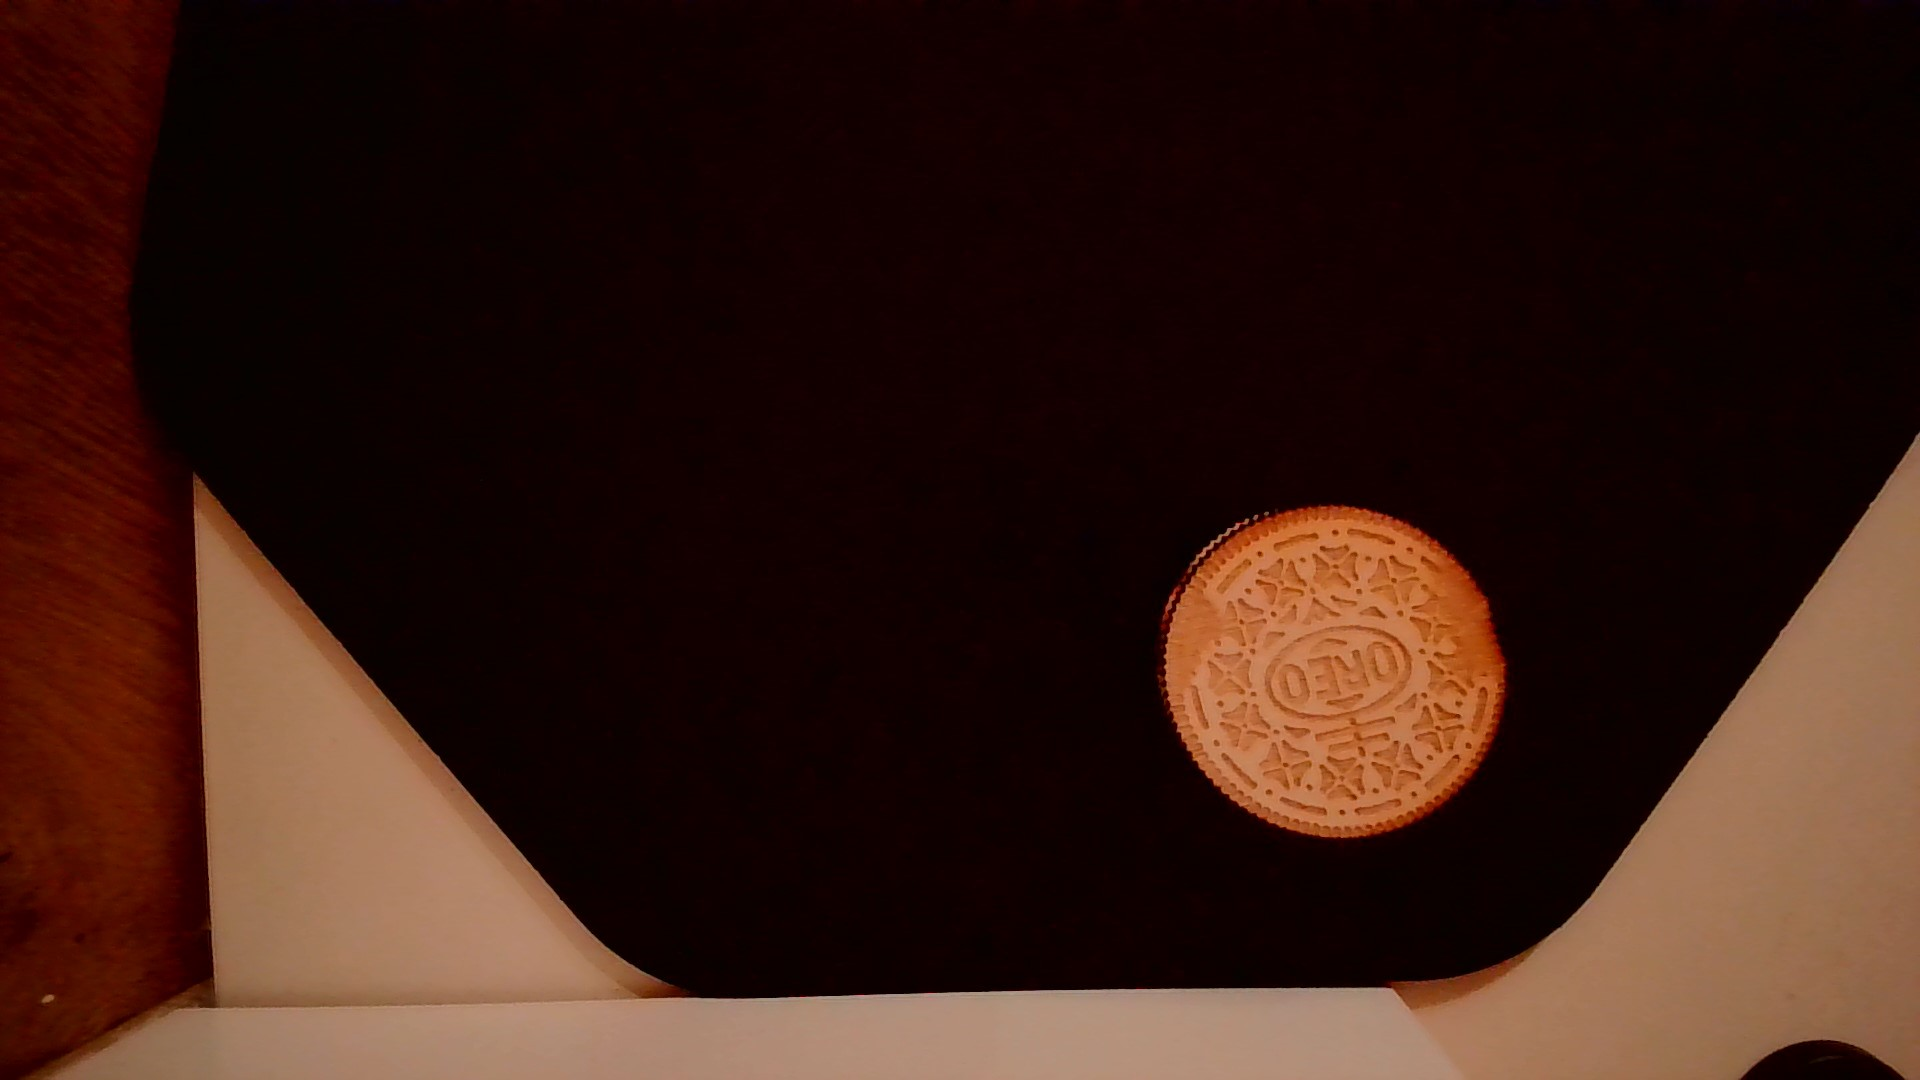Effacé: (1422, 553, 1495, 684), (1163, 571, 1228, 702)
Oréo: (1145, 493, 1516, 851)
